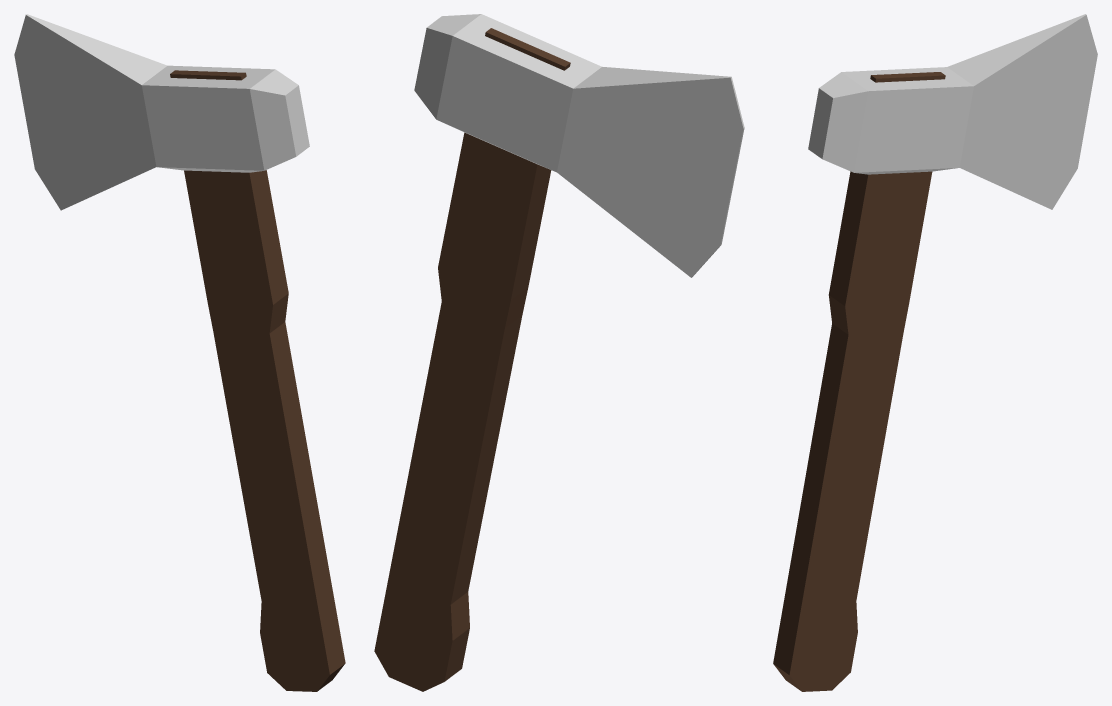
File: AXE_anim.fbx
3 renders of one model, left to right at view 1: azimuth 30°, elevation 25°; view 2: azimuth 210°, elevation 25°; view 3: azimuth 270°, elevation 25°, orthographic. The views are drawn at different scales.
Parts seen in each view (by area): view 1: Cube; view 2: Cube; view 3: Cube.
Part boxes in pixels (bbox=[...]): Cube: bbox=[14, 14, 345, 691]; Cube: bbox=[374, 14, 744, 691]; Cube: bbox=[773, 14, 1097, 691].
Bounding box in the file's own units: 116 × 380 × 185.
